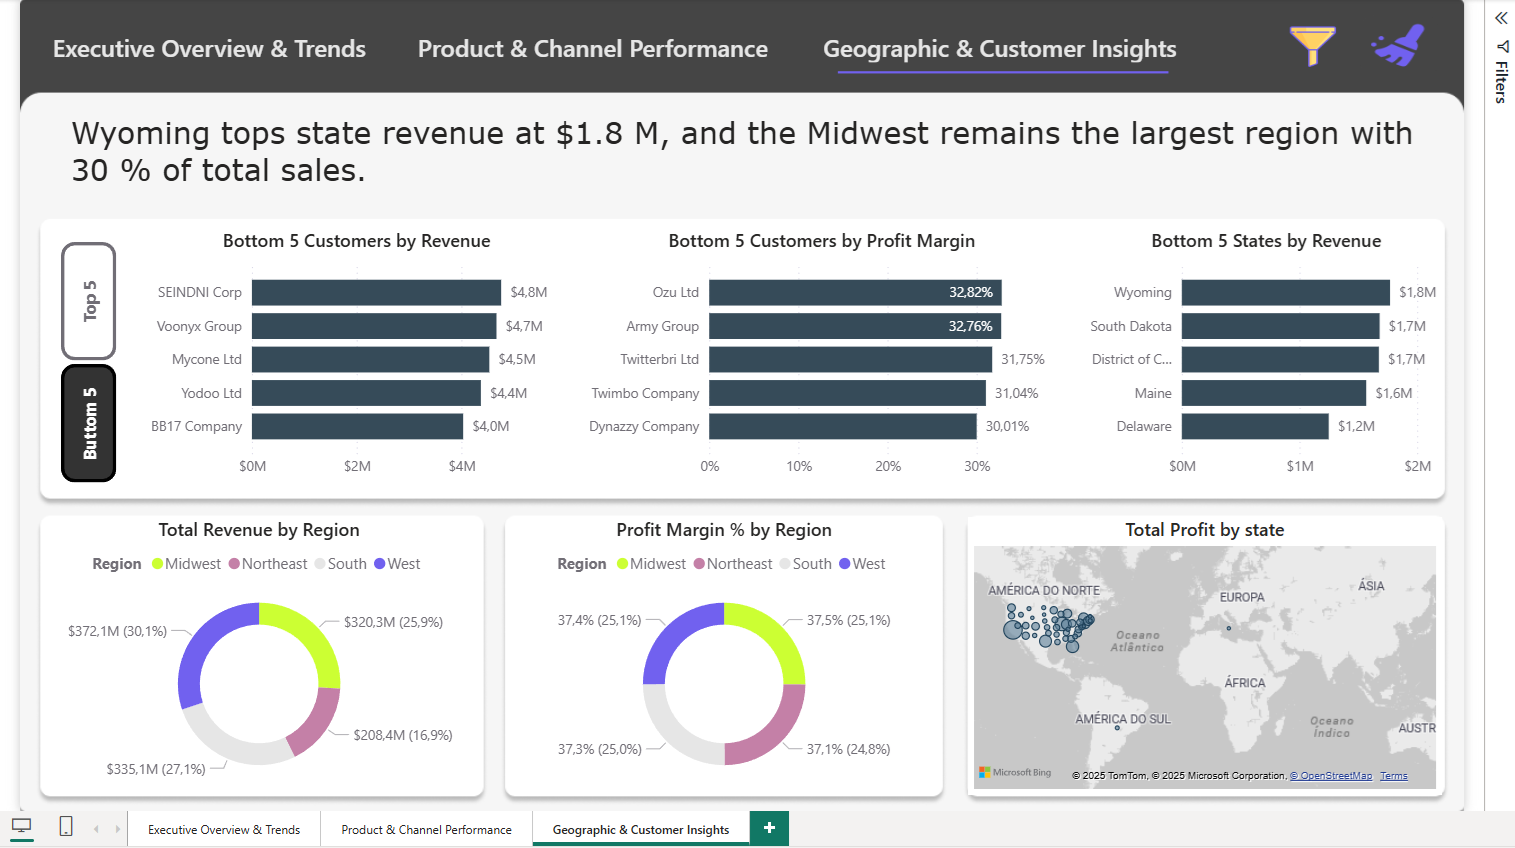

What the dashboard file says about the page in this screenshot:
{"tool":"powerbi","page":{"name":"Geographic & Customer Insights","canvas":[1280,720],"ordinal":2},"visuals":[{"type":"barChart","title":"Bottom 5 States by Revenue","fields":{"Category":["Sales_data.state_name"],"Y":["Measures_.Total Revenue"]},"box":[930.1,202.7,349.9,229.1],"z":0,"group":"g2"},{"type":"actionButton","box":[36.3,215,49,105],"z":0,"group":"g1"},{"type":"donutChart","title":"Total Revenue by Region","fields":{"Category":["Sales_data.us_region"],"Y":["Measures_.Total Revenue"]},"box":[9.1,459.1,406.4,246.4],"z":0},{"type":"barChart","title":"Bottom 5 Customers by Profit Margin","fields":{"Category":["Sales_data.customer_name"],"Y":["Measures_.Profit Margin %"]},"box":[492.3,202.7,437.8,229.1],"z":1000,"group":"g2"},{"type":"actionButton","box":[36,323.3,49,105],"z":1000,"group":"g1"},{"type":"donutChart","title":"Profit Margin % by Region","fields":{"Category":["Sales_data.us_region"],"Y":["Measures_.Profit Margin %"]},"box":[420.9,459.1,406.4,246.4],"z":1000},{"type":"actionButton","box":[337.2,14.1,342.3,55.1],"z":2000},{"type":"barChart","title":"Bottom 5 Customers by Revenue","fields":{"Category":["Sales_data.customer_name"],"Y":["Measures_.Total Revenue"]},"box":[104.5,202.7,387.8,229.1],"z":2000,"group":"g2"},{"type":"actionButton","box":[9,14.1,317.9,55.1],"z":3000},{"type":"actionButton","box":[702.6,14.1,333.3,55.1],"z":4000},{"type":"group","id":"g1","title":"bottom 5 button","box":[36,215,49.3,213.3],"z":5000},{"type":"map","fields":{"Category":["Sales_data.state"],"Size":["Measures_.Total Profit"]},"box":[840.9,459.1,420,246.4],"z":7000},{"type":"group","id":"g2","title":"buttom 5","box":[104.5,202.7,1175.5,229.1],"z":8000},{"type":"textbox","title":"Bottom Text","box":[40,96.4,1221.8,97.3],"z":10000},{"type":"actionButton","box":[1188,14,70,55],"z":12000},{"type":"actionButton","box":[1120,21,53,42],"z":13000}]}

Visuals, with their boxes on the page's 1280x720 design canvas (x1, y1, x2, y2). These are canvas units, not pixel positions in the 1515x848 screenshot, which may show the page scaled, cropped or inside an application window:
"Bottom 5 States by Revenue" barChart: pyautogui.locateOnScreen(930, 203, 1280, 432)
actionButton: pyautogui.locateOnScreen(36, 215, 85, 320)
"Total Revenue by Region" donutChart: pyautogui.locateOnScreen(9, 459, 416, 706)
"Bottom 5 Customers by Profit Margin" barChart: pyautogui.locateOnScreen(492, 203, 930, 432)
actionButton: pyautogui.locateOnScreen(36, 323, 85, 428)
"Profit Margin % by Region" donutChart: pyautogui.locateOnScreen(421, 459, 827, 706)
actionButton: pyautogui.locateOnScreen(337, 14, 680, 69)
"Bottom 5 Customers by Revenue" barChart: pyautogui.locateOnScreen(104, 203, 492, 432)
actionButton: pyautogui.locateOnScreen(9, 14, 327, 69)
actionButton: pyautogui.locateOnScreen(703, 14, 1036, 69)
"bottom 5 button" group: pyautogui.locateOnScreen(36, 215, 85, 428)
map - Sales_data.state x Measures_.Total Profit: pyautogui.locateOnScreen(841, 459, 1261, 706)
"buttom 5" group: pyautogui.locateOnScreen(104, 203, 1280, 432)
"Bottom Text" textbox: pyautogui.locateOnScreen(40, 96, 1262, 194)
actionButton: pyautogui.locateOnScreen(1188, 14, 1258, 69)
actionButton: pyautogui.locateOnScreen(1120, 21, 1173, 63)
